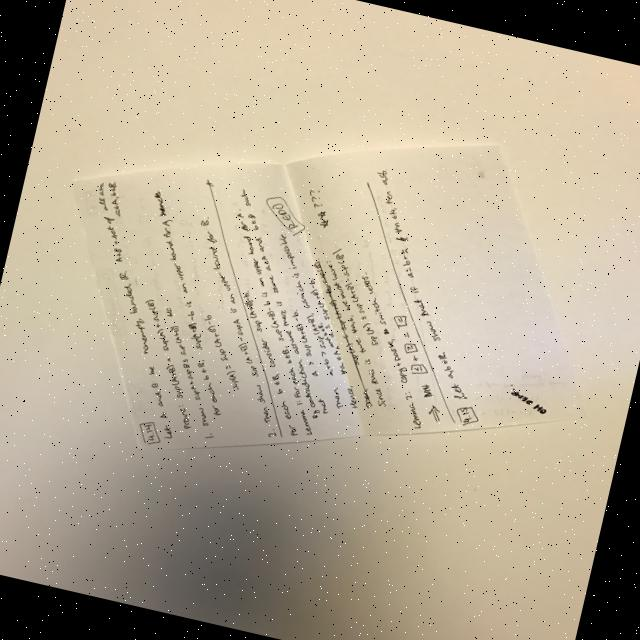paper: (14, 50, 640, 546)
